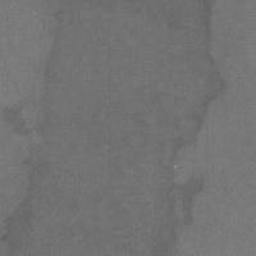Water spot: (1, 0, 225, 256)
